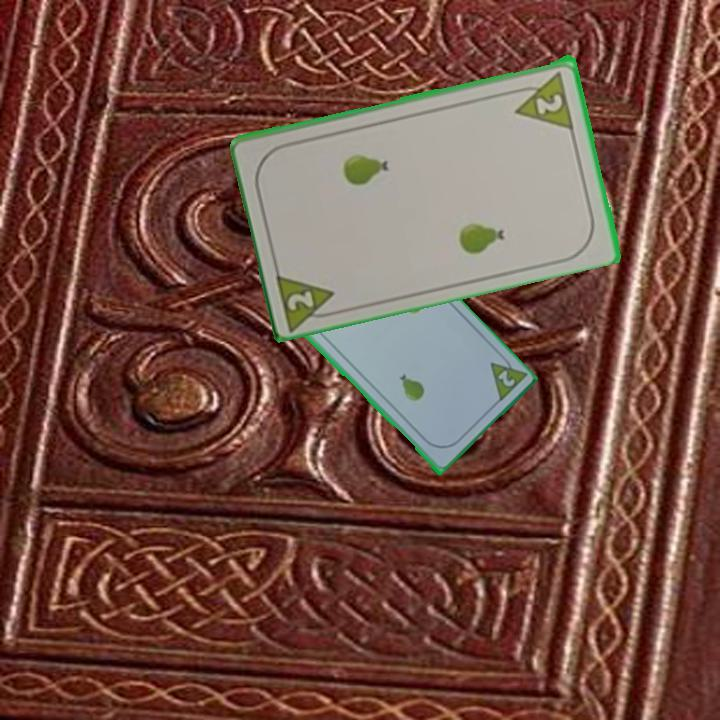2p: (272, 266, 343, 331), (508, 67, 577, 131), (494, 366, 518, 390)
